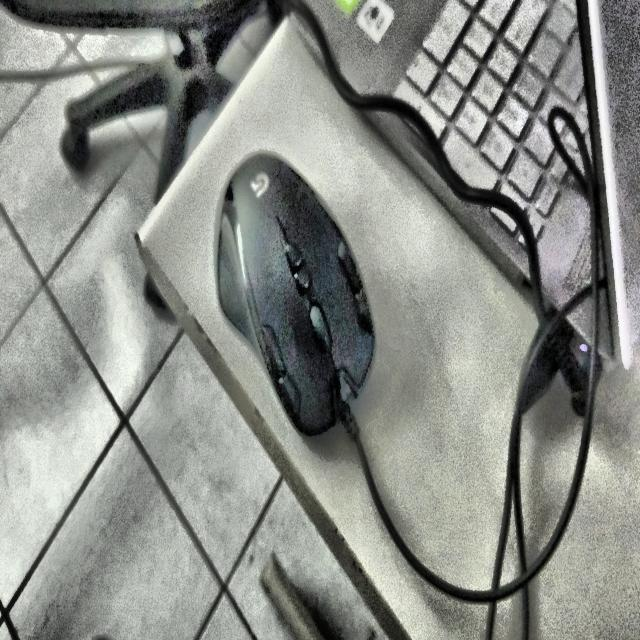Laptop: (300, 0, 640, 368), (366, 111, 529, 283)
MOUSE: (216, 154, 376, 436)
